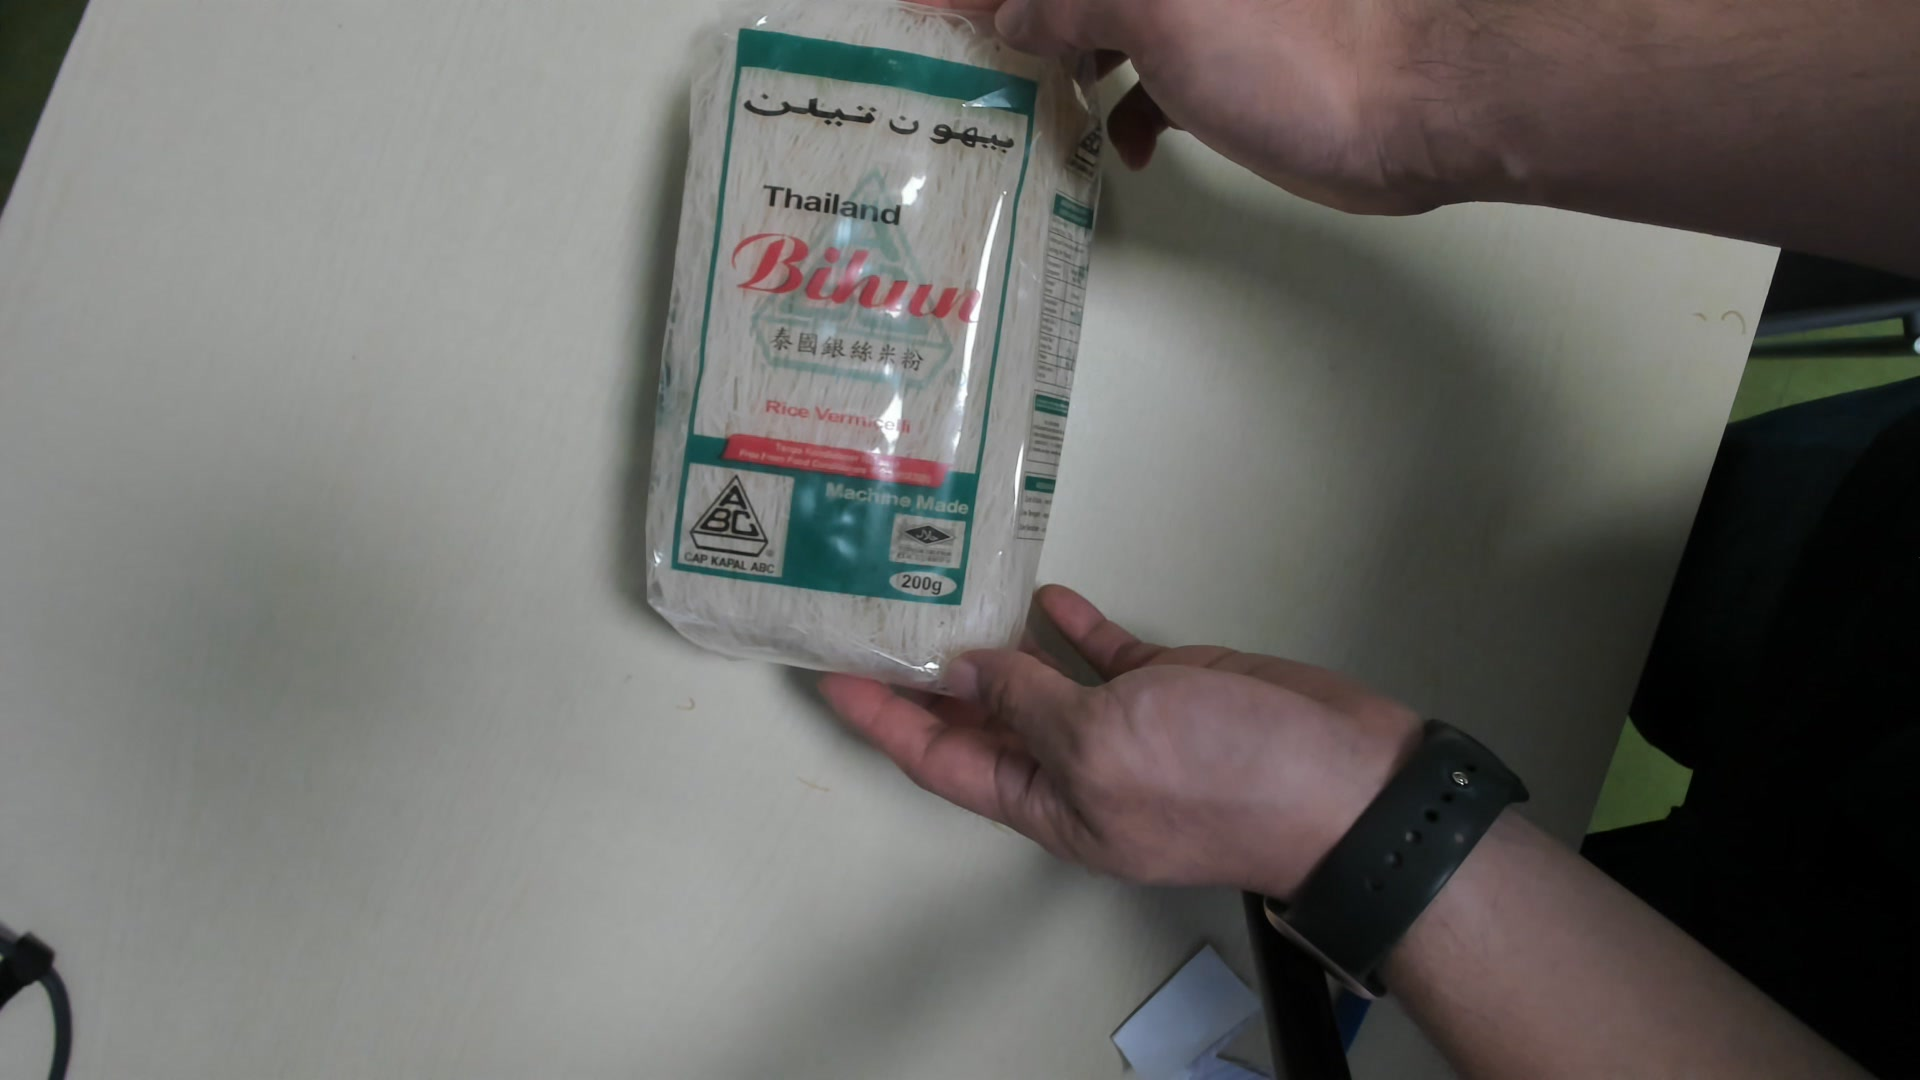BeeHoonVermicelli_200-299g_Halal_NonHealthy: (644, 12, 1091, 661)
